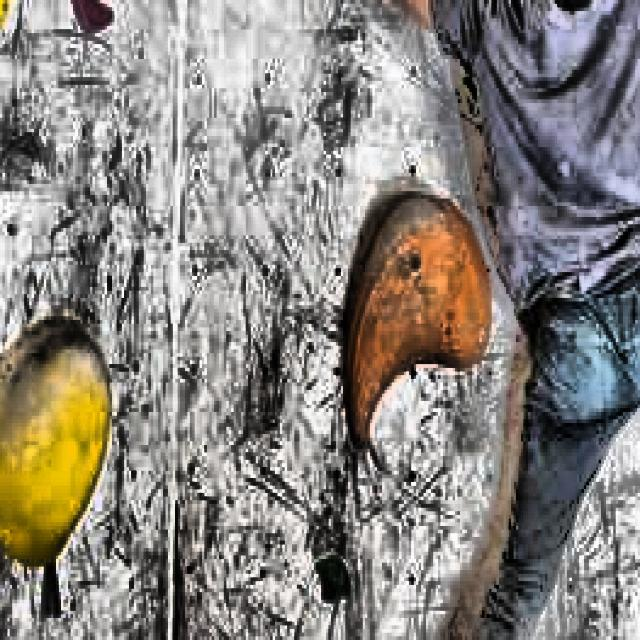Hold: (346, 191, 492, 445), (0, 316, 112, 570), (316, 555, 350, 603), (68, 0, 112, 33)
start_tag: (52, 567, 62, 616), (44, 567, 53, 615)
